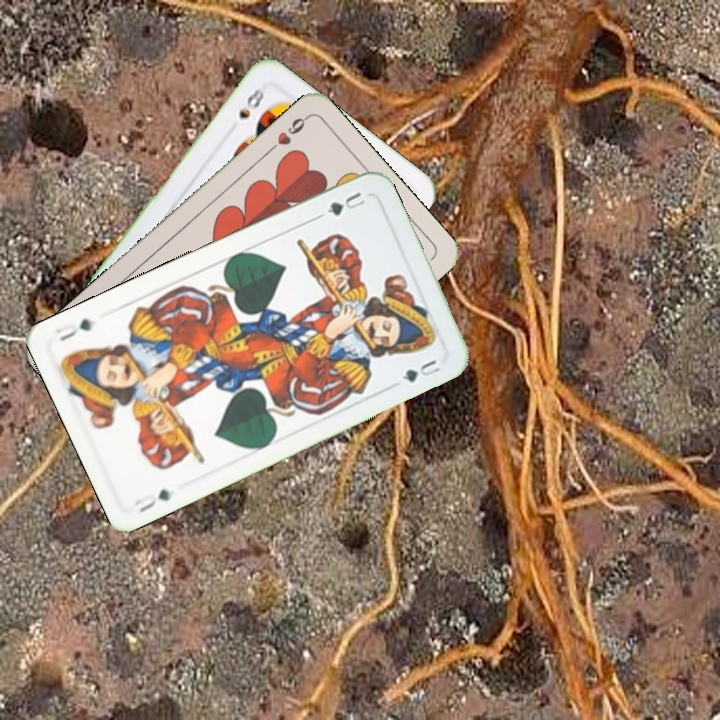GU: (323, 187, 369, 219), (130, 485, 173, 515)
H9: (263, 112, 311, 156)
S8: (234, 84, 267, 122)
